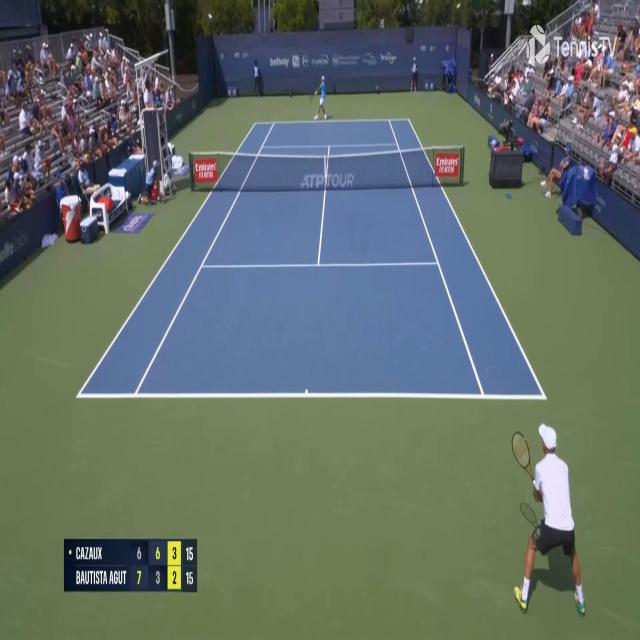tennis-player: (509, 420, 588, 618), (312, 73, 330, 123)
